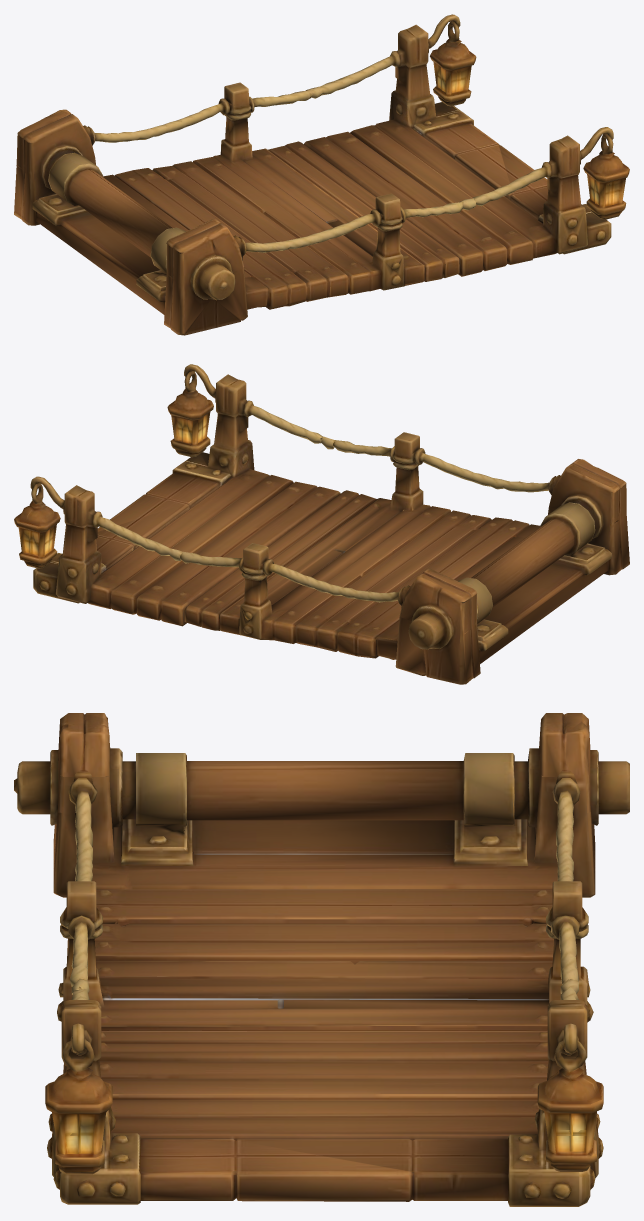
File: bridge.glb
3 renders of one model, top to bottom at view 1: azimuth 30°, elevation 25°; view 2: azimuth 150°, elevation 25°; view 3: azimuth 270°, elevation 25°, orthographic. The views are drawn at different scales.
Visible parts, largest first — view 1: tripo_node_dfc6b9f8-f8ed-470f-b8d2-024229fb23bd; view 2: tripo_node_dfc6b9f8-f8ed-470f-b8d2-024229fb23bd; view 3: tripo_node_dfc6b9f8-f8ed-470f-b8d2-024229fb23bd.
Part boxes in pixels (bbox=[...]): tripo_node_dfc6b9f8-f8ed-470f-b8d2-024229fb23bd: bbox=[14, 14, 629, 335]; tripo_node_dfc6b9f8-f8ed-470f-b8d2-024229fb23bd: bbox=[14, 364, 629, 684]; tripo_node_dfc6b9f8-f8ed-470f-b8d2-024229fb23bd: bbox=[14, 713, 629, 1206].
Size of the model in its own units: 0.9941 by 0.2407 by 0.7319.
Materials: 1 (1 with a texture image).
